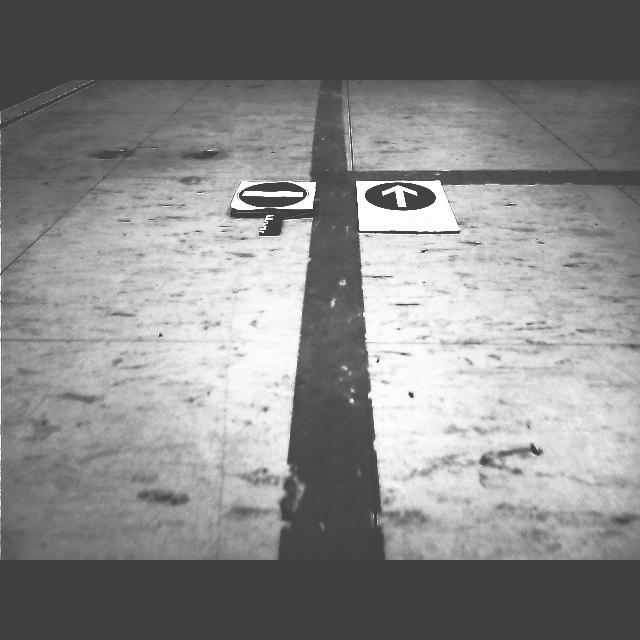GO FORWARD: (365, 182, 436, 210)
NO ENTRY: (239, 182, 307, 207)
